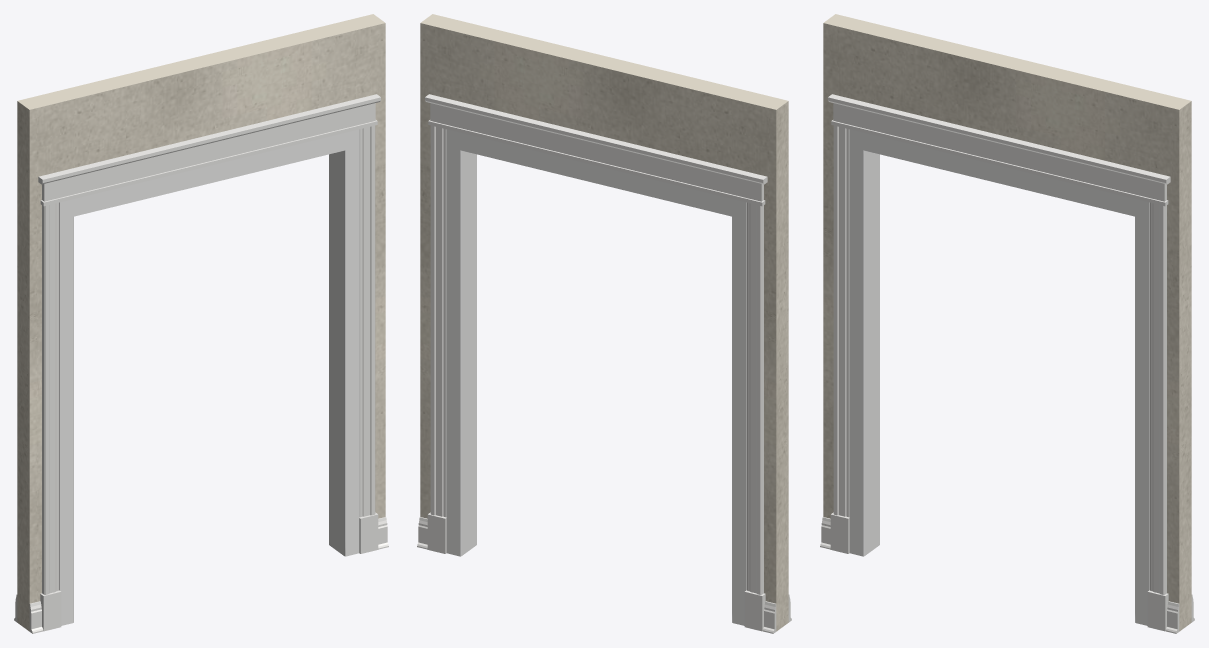
File: interior_wall_wide.glb
3 renders of one model, left to right at view 1: azimuth 30°, elevation 25°; view 2: azimuth 150°, elevation 25°; view 3: azimuth 330°, elevation 25°, orthographic.
Parts seen in each view (by area): view 1: interior_wall_wide_plaster, molduras, interior_wall_wide_frame; view 2: interior_wall_wide_plaster, molduras, interior_wall_wide_frame; view 3: interior_wall_wide_plaster, molduras, interior_wall_wide_frame.
Part boxes in pixels (box(x1,y1,x2,y2)): interior_wall_wide_plaster: box(17, 14, 385, 631); molduras: box(14, 94, 388, 633); interior_wall_wide_frame: box(59, 129, 359, 625); interior_wall_wide_plaster: box(420, 14, 788, 631); molduras: box(417, 94, 791, 633); interior_wall_wide_frame: box(446, 129, 746, 625); interior_wall_wide_plaster: box(823, 14, 1191, 631); molduras: box(820, 94, 1194, 633); interior_wall_wide_frame: box(849, 129, 1149, 625).
Size of the model in its own units: 2 by 2.8 by 0.204.
Materials: 3 (1 with a texture image).
